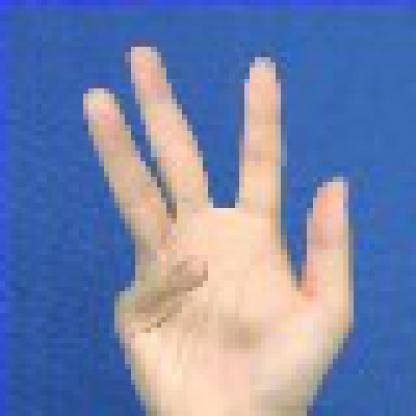nine: (32, 21, 400, 411)
